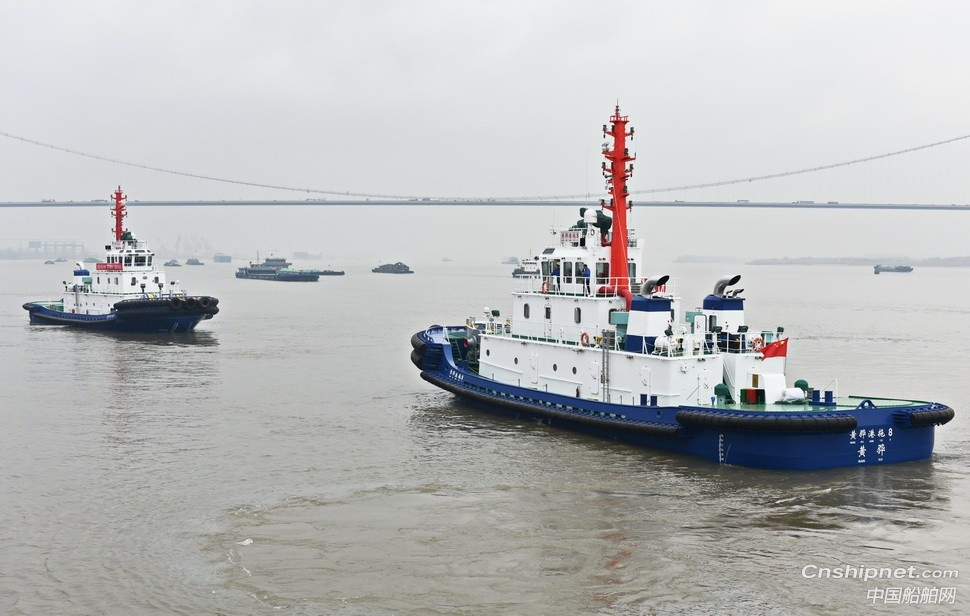otherboat: (386, 105, 970, 474), (13, 201, 216, 344), (230, 249, 322, 288)
